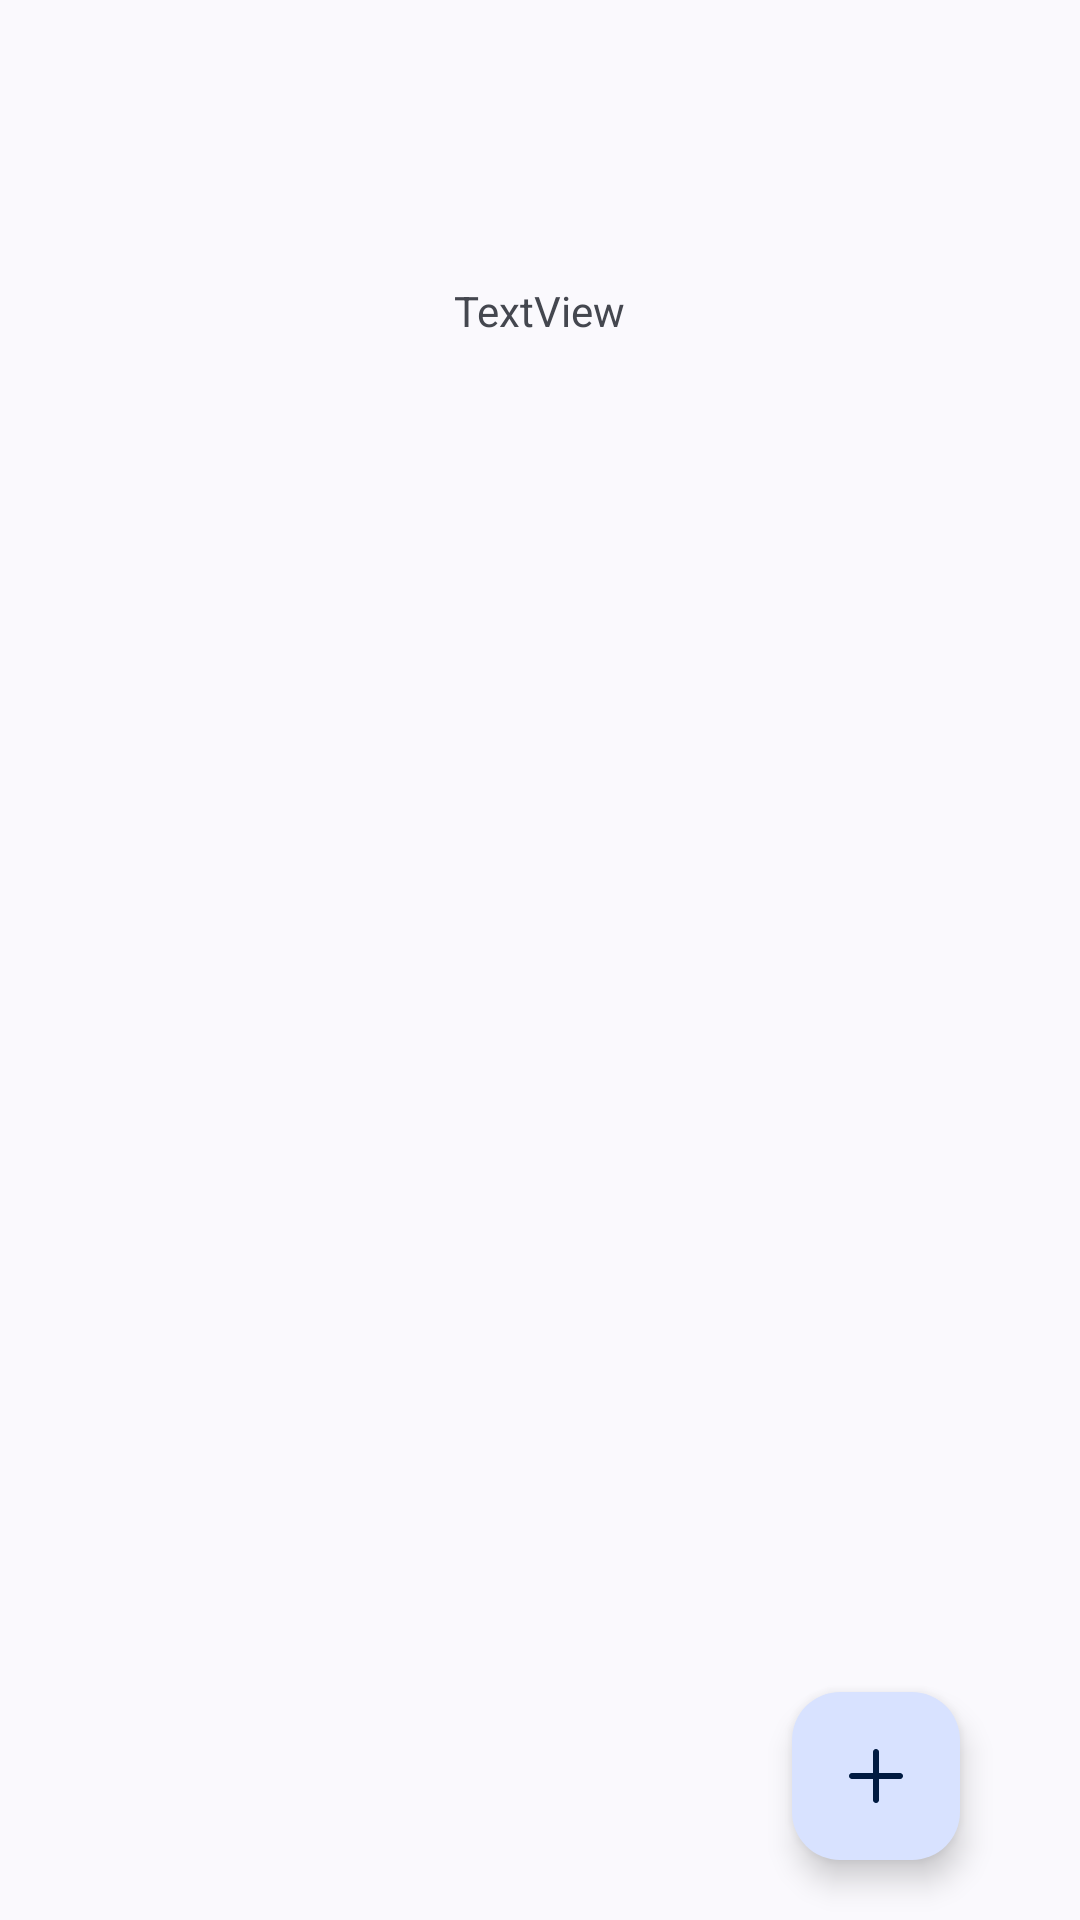

Icons on this 1080w x 1920h Android screen, each with its box as (x1=x1, y1=y1, x2=x2, y2=y2):
plus: (x1=792, y1=1692, x2=960, y2=1860)
